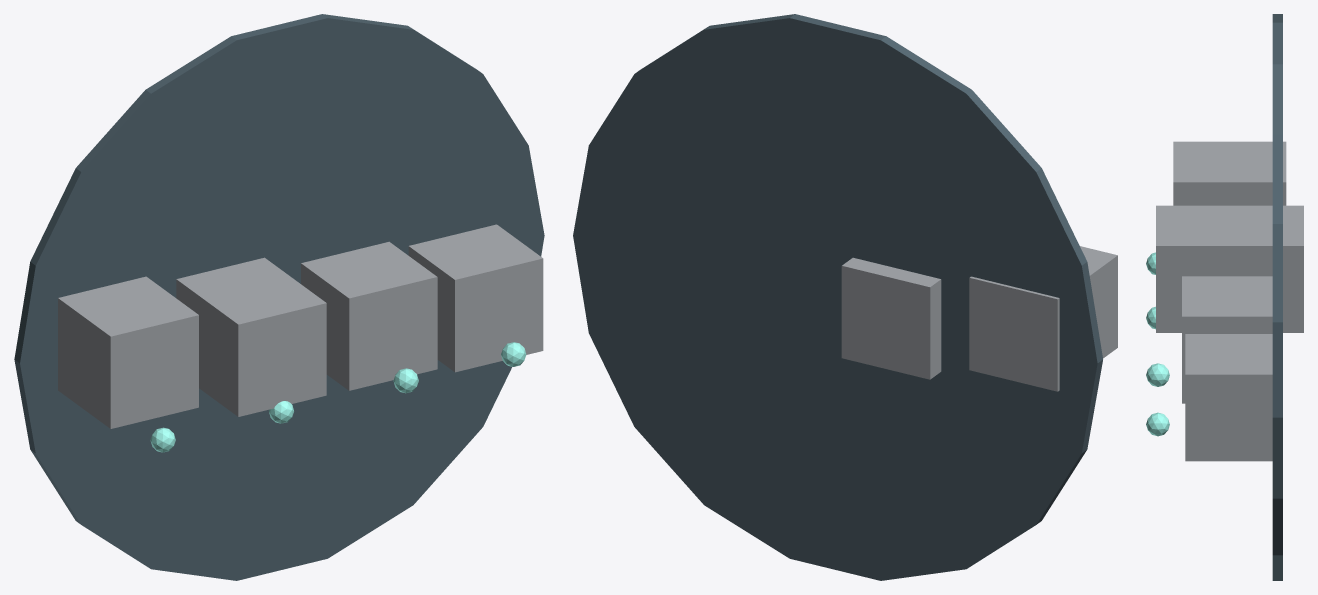
Rendered from 02_local_prop_cluster.glb.
3 renders of one model, left to right at view 1: azimuth 30°, elevation 25°; view 2: azimuth 150°, elevation 25°; view 3: azimuth 270°, elevation 25°, orthographic. The views are drawn at different scales.
Visible parts, largest first — view 1: scatter_base, tech_crate_0, tech_crate_1, tech_crate_2, tech_crate_3; view 2: scatter_base, tech_crate_0, tech_crate_1; view 3: tech_crate_1, tech_crate_3, tech_crate_0, scatter_base, tech_crate_2, status_light_2, status_light_3.
Boxes of the visible parts, x1,y1,x2,y2 form: scatter_base: (14,14,544,580); tech_crate_0: (58,276,198,428); tech_crate_1: (176,257,326,416); tech_crate_2: (301,241,437,390); tech_crate_3: (408,224,543,372); scatter_base: (573,14,1102,580); tech_crate_0: (969,246,1117,391); tech_crate_1: (841,257,941,379); tech_crate_1: (1156,205,1303,332); tech_crate_3: (1185,334,1272,461); tech_crate_0: (1173,141,1286,205); scatter_base: (1272,14,1282,580); tech_crate_2: (1182,276,1272,403); status_light_2: (1146,363,1169,386); status_light_3: (1146,412,1169,436).
Size of the model in its own units: 1.9 by 1.87 by 0.5272.
